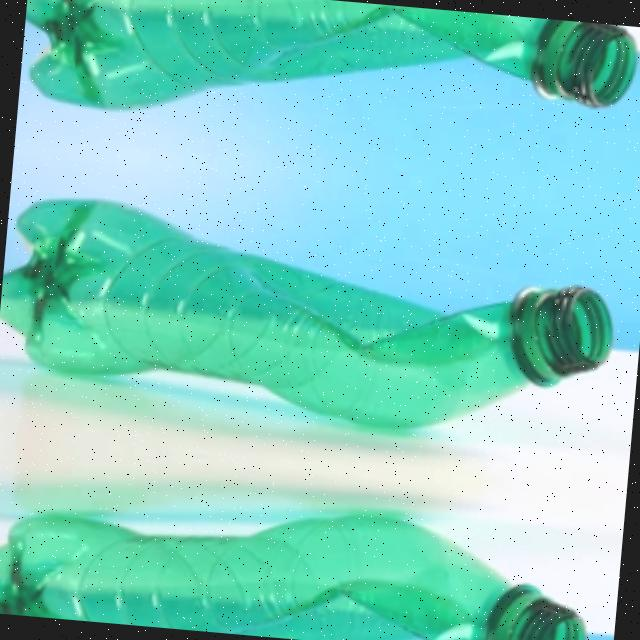Plastic: (0, 151, 631, 467), (19, 0, 640, 193), (0, 460, 604, 640)
